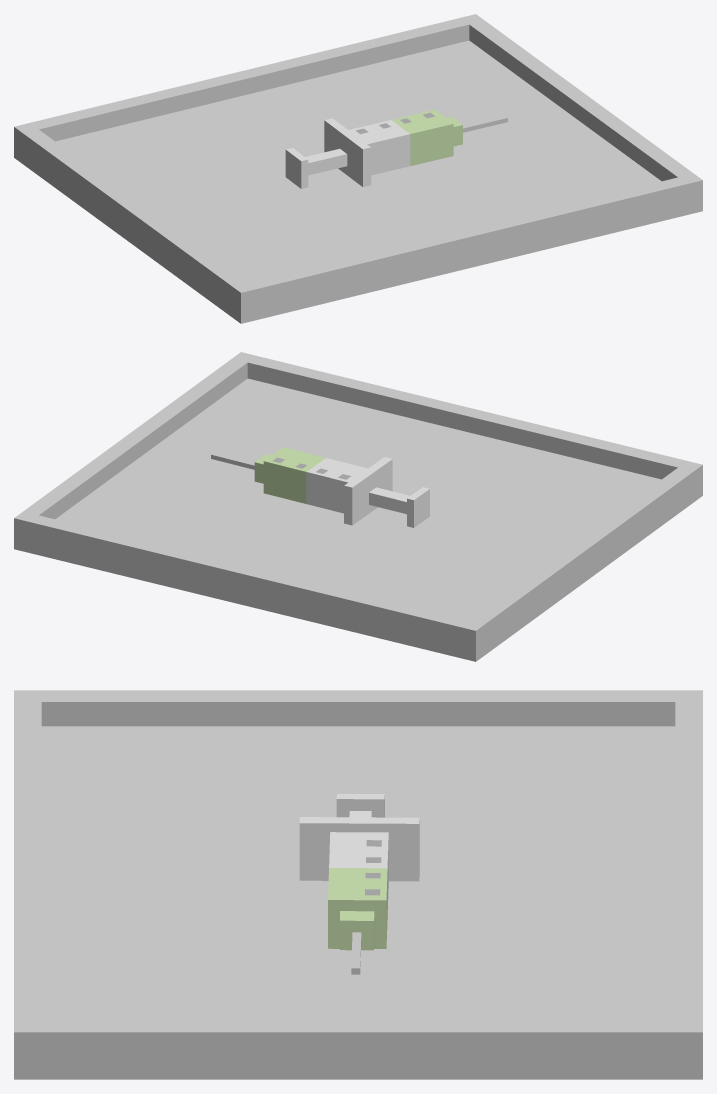
The model's file is medicines_2.fbx.
The picture shows the model from 3 angles, top to bottom: view 1: azimuth 30°, elevation 25°; view 2: azimuth 150°, elevation 25°; view 3: azimuth 270°, elevation 25°; orthographic projection. The views are drawn at different scales.
Parts seen in each view (by area): view 1: Cube_3; view 2: Cube_3; view 3: Cube_3.
Boxes of the visible parts, box(x1,y1,x2,y2) form: Cube_3: box(14, 14, 702, 323); Cube_3: box(14, 352, 702, 661); Cube_3: box(14, 690, 702, 1079).
Bounding box in the file's own units: 29.37 × 3.22 × 25.
